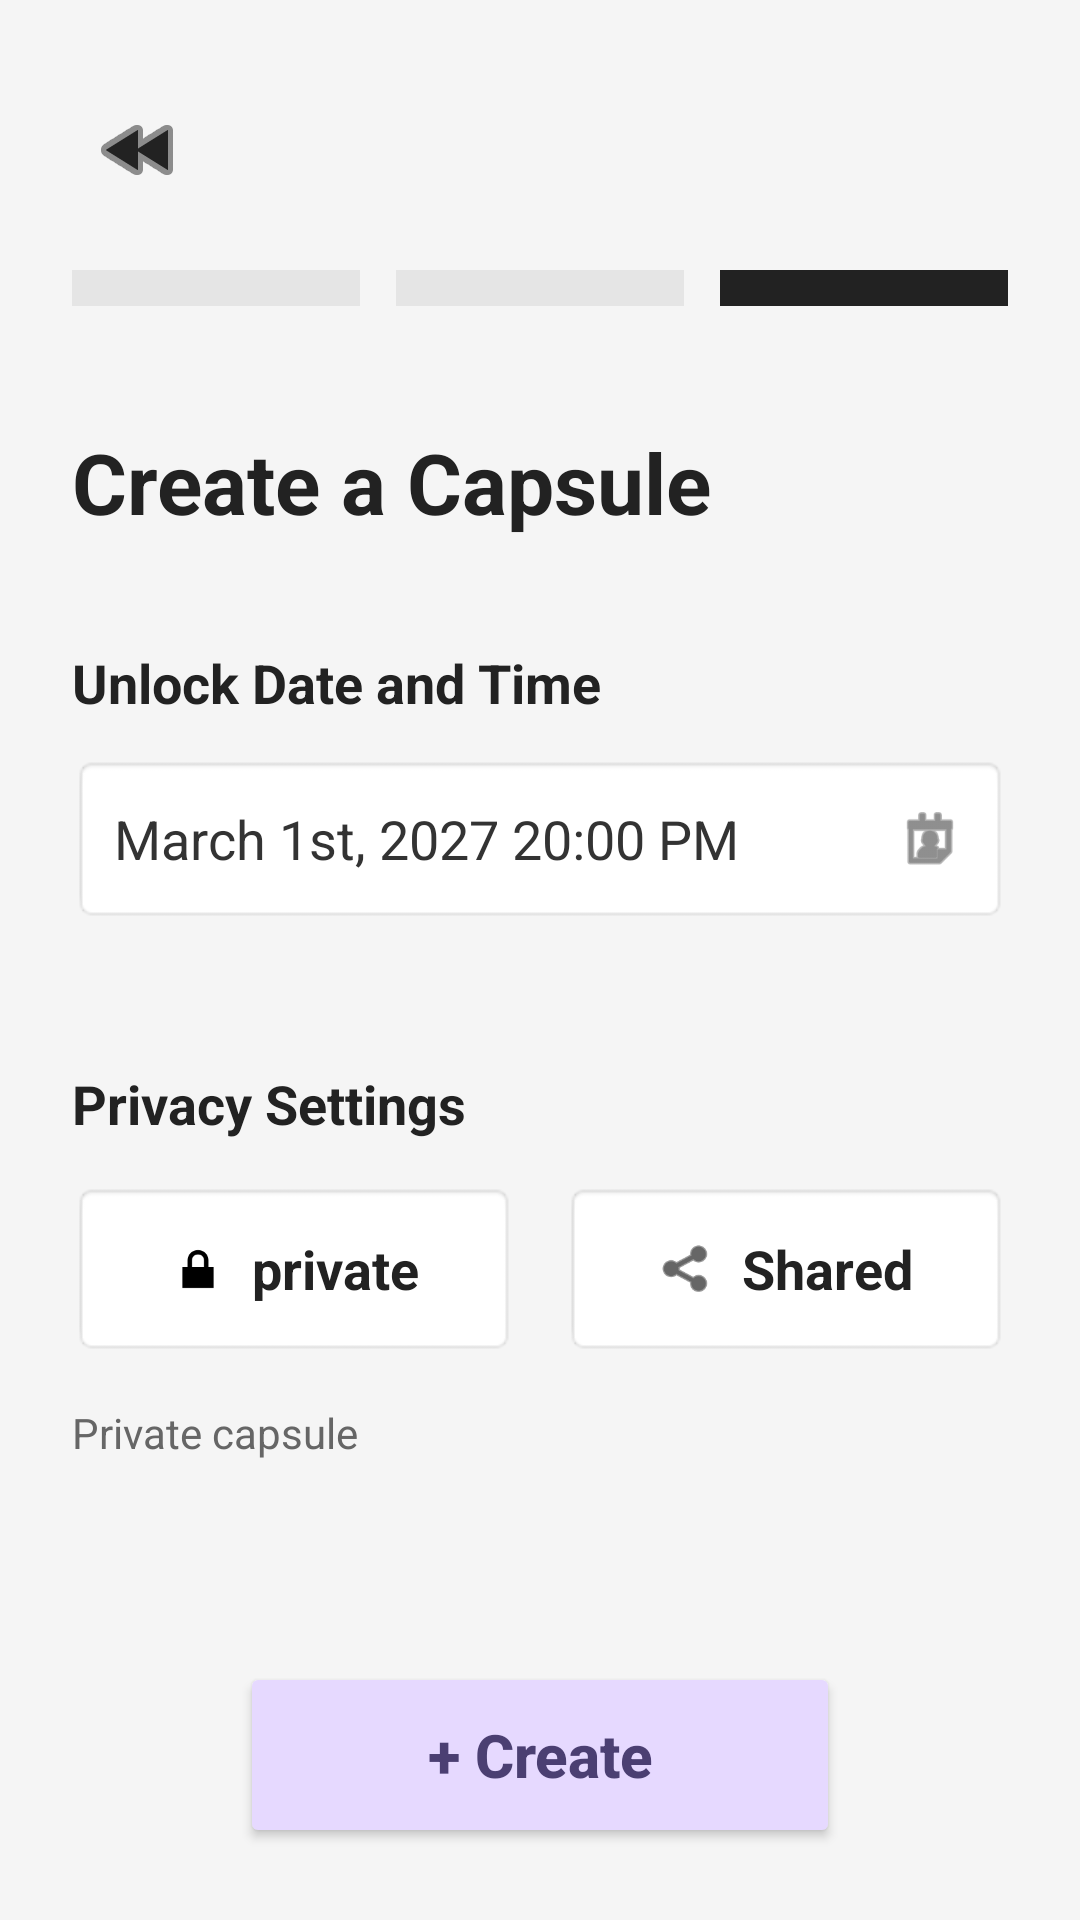

Where icons sit on this 1080x1920 app screen, as box=[x1, y1, x2, y2]:
calendar: box=[907, 812, 953, 865]
lock: box=[182, 1250, 214, 1288]
rew: box=[101, 125, 173, 175]
